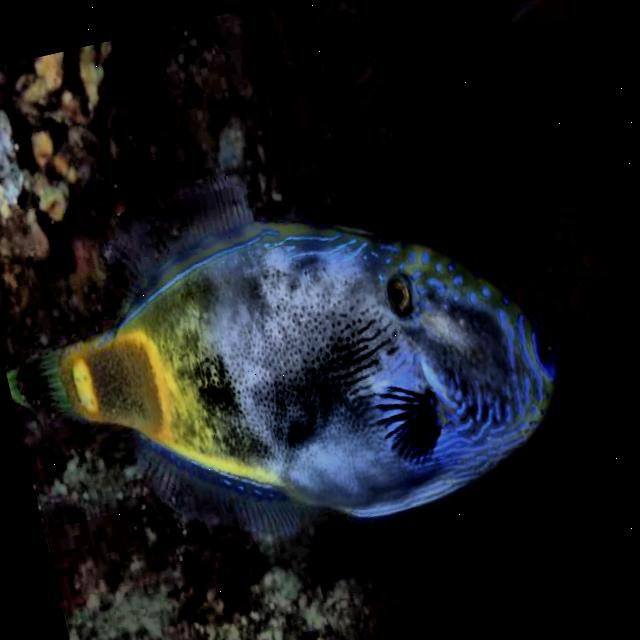fish: (0, 110, 584, 592)
